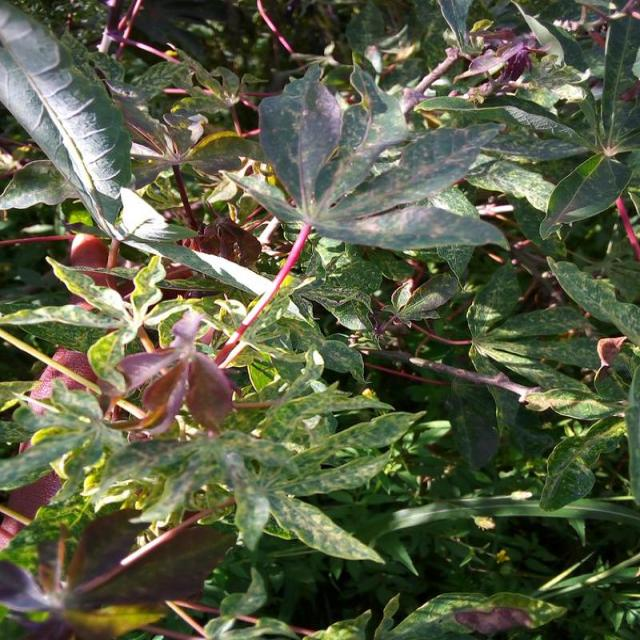cassava leaf: (222, 60, 510, 254), (0, 0, 133, 239)
